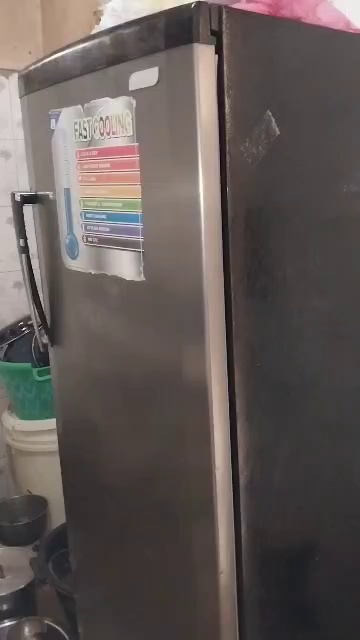refrigerator: (19, 1, 360, 637)
